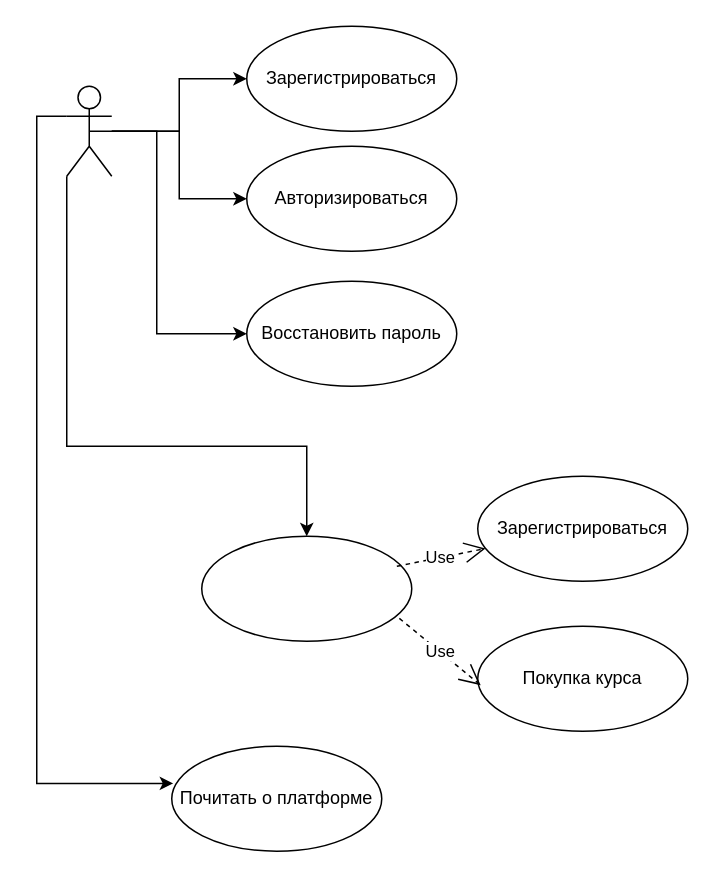
This 714x878 diagram has some shape labels left out. Each missing label, with the centre of its shape:
"User" goes at (x=88, y=130).
"Купить курс" goes at (x=306, y=588).
